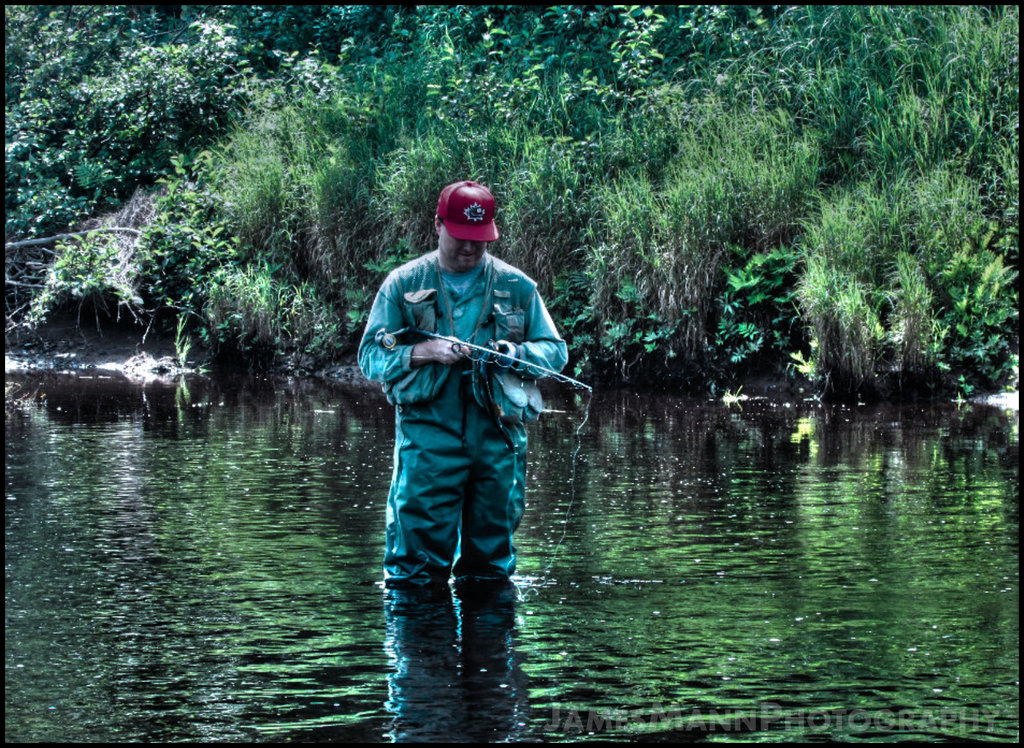Person: (357, 180, 568, 588)
